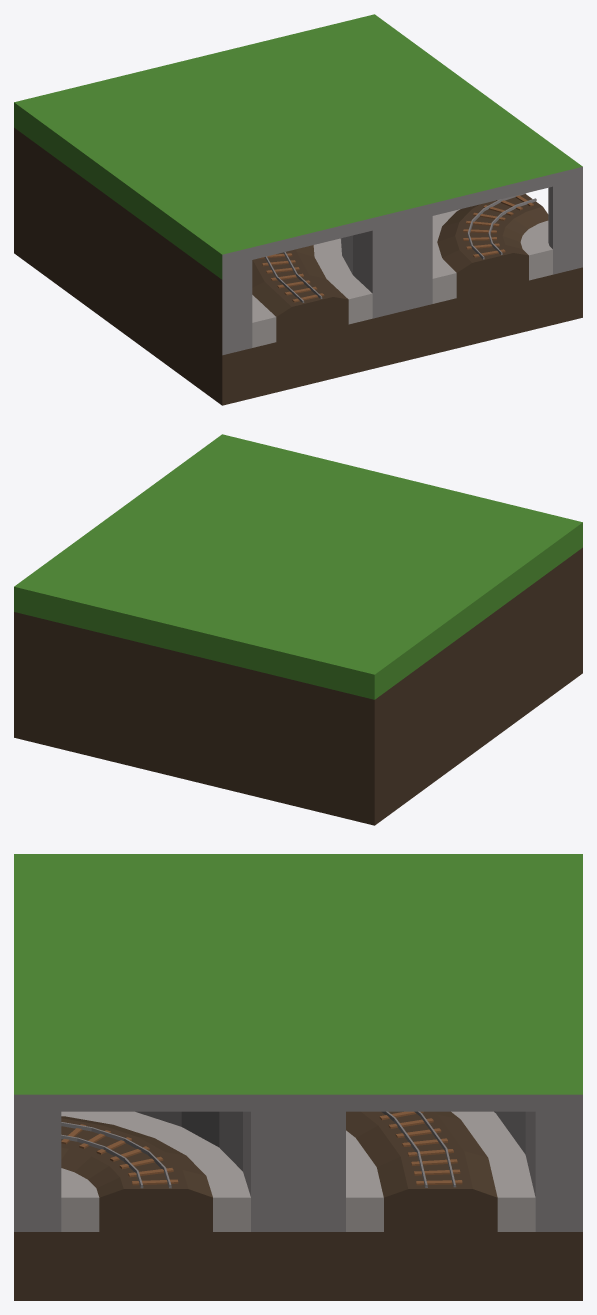
File: tile-rail-tunnel-curve-double.glb
3 views of the same model, one above another, from view 1: azimuth 30°, elevation 25°; view 2: azimuth 150°, elevation 25°; view 3: azimuth 270°, elevation 25° (orthographic). The views are drawn at different scales.
Parts seen in each view (by area): view 1: tile-rail-tunnel-curve-double; view 2: tile-rail-tunnel-curve-double; view 3: tile-rail-tunnel-curve-double.
Boxes of the visible parts, box(x1,y1,x2,y2) form: tile-rail-tunnel-curve-double: box(14, 14, 582, 405); tile-rail-tunnel-curve-double: box(14, 434, 582, 825); tile-rail-tunnel-curve-double: box(14, 854, 582, 1300).
Bounding box in the file's own units: 30 × 12 × 30.
Materials: 1 (1 with a texture image).
